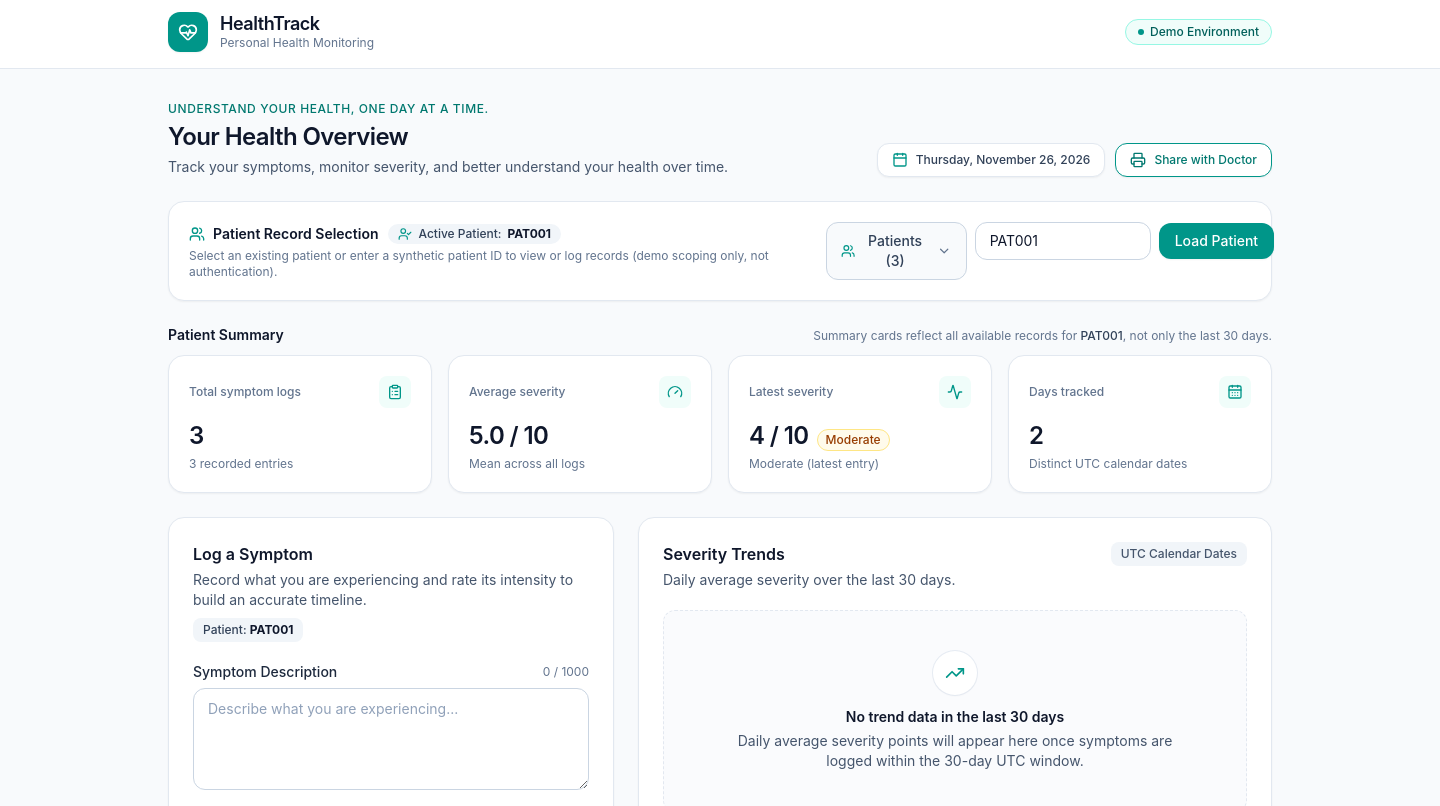
HealthTrack Dashboard › loads dynamic patient list, filters case-insensitively, and selects a patient with one click
The width and height of the screenshot is (1440, 806).
Click the button with aria-label "Browse existing patients": click(896, 251) [826,222,967,280]
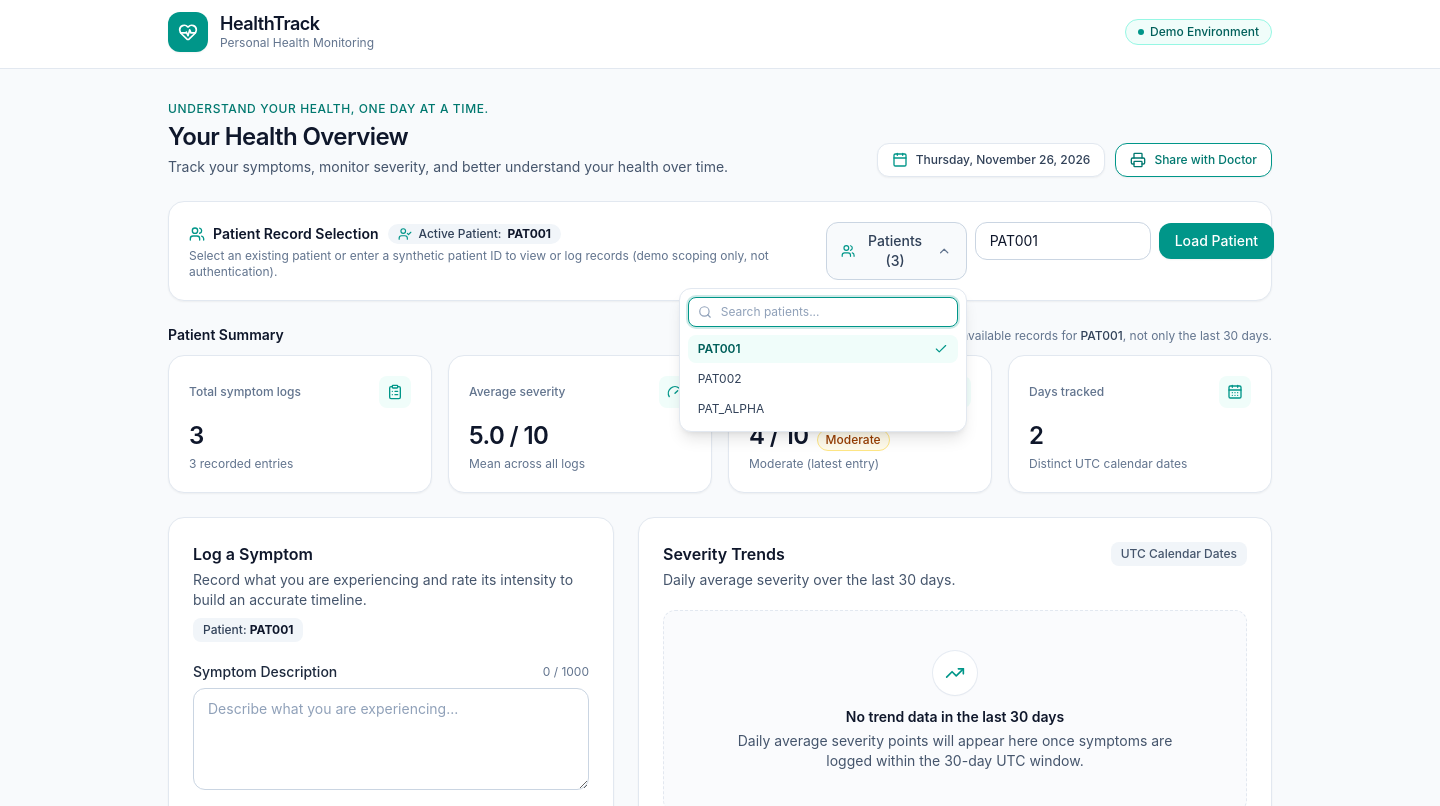
In the field labelled "Search patients": (823, 312) [688,297,958,327], type "pat002"
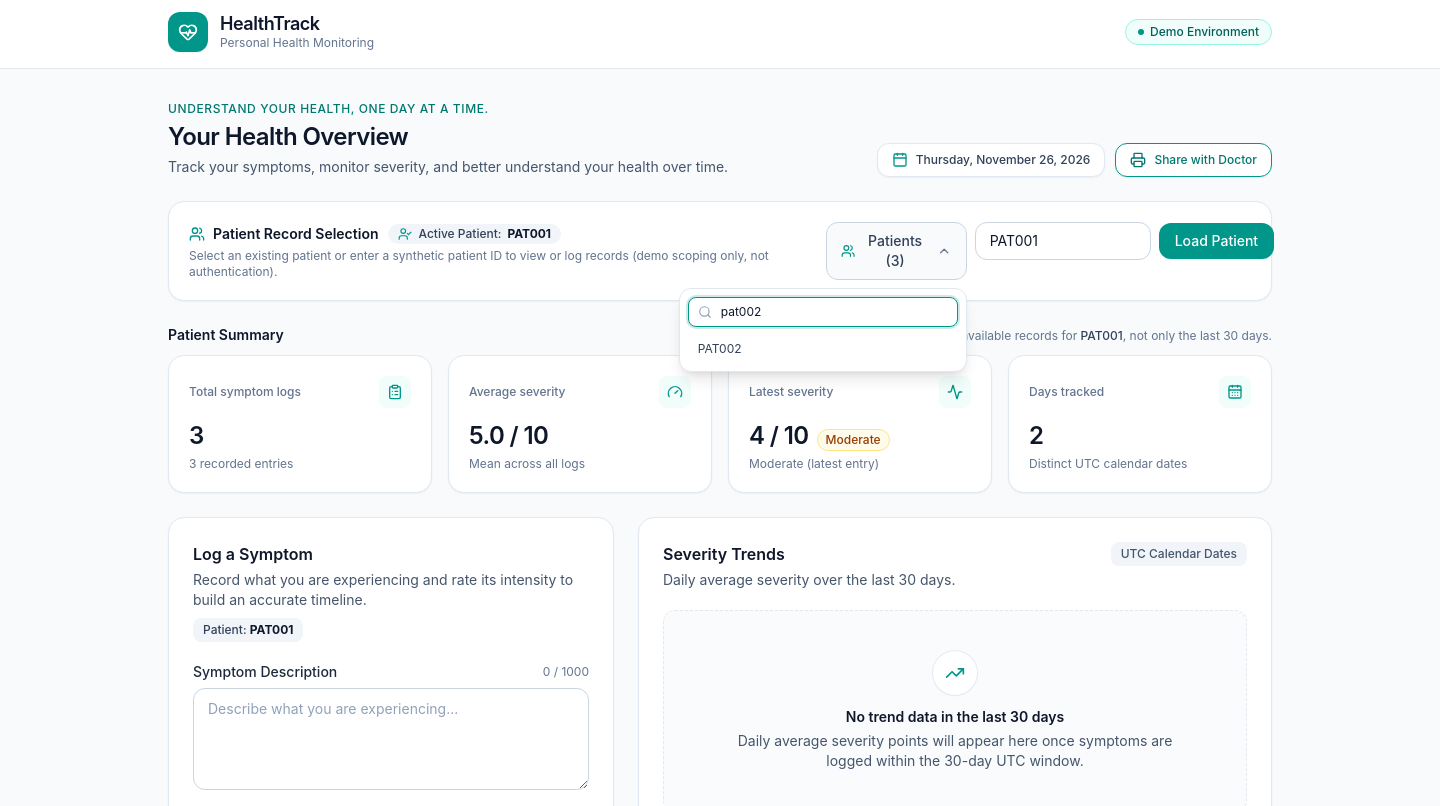
expect the option "PAT002" is shown: met, box [688,335,958,363]
expect the button "PAT_ALPHA" is gone: met
// Non-matching search shows empty search message
Replace the text in the field named "Search patients" with "zzz": (823, 312) [688,297,958,327]
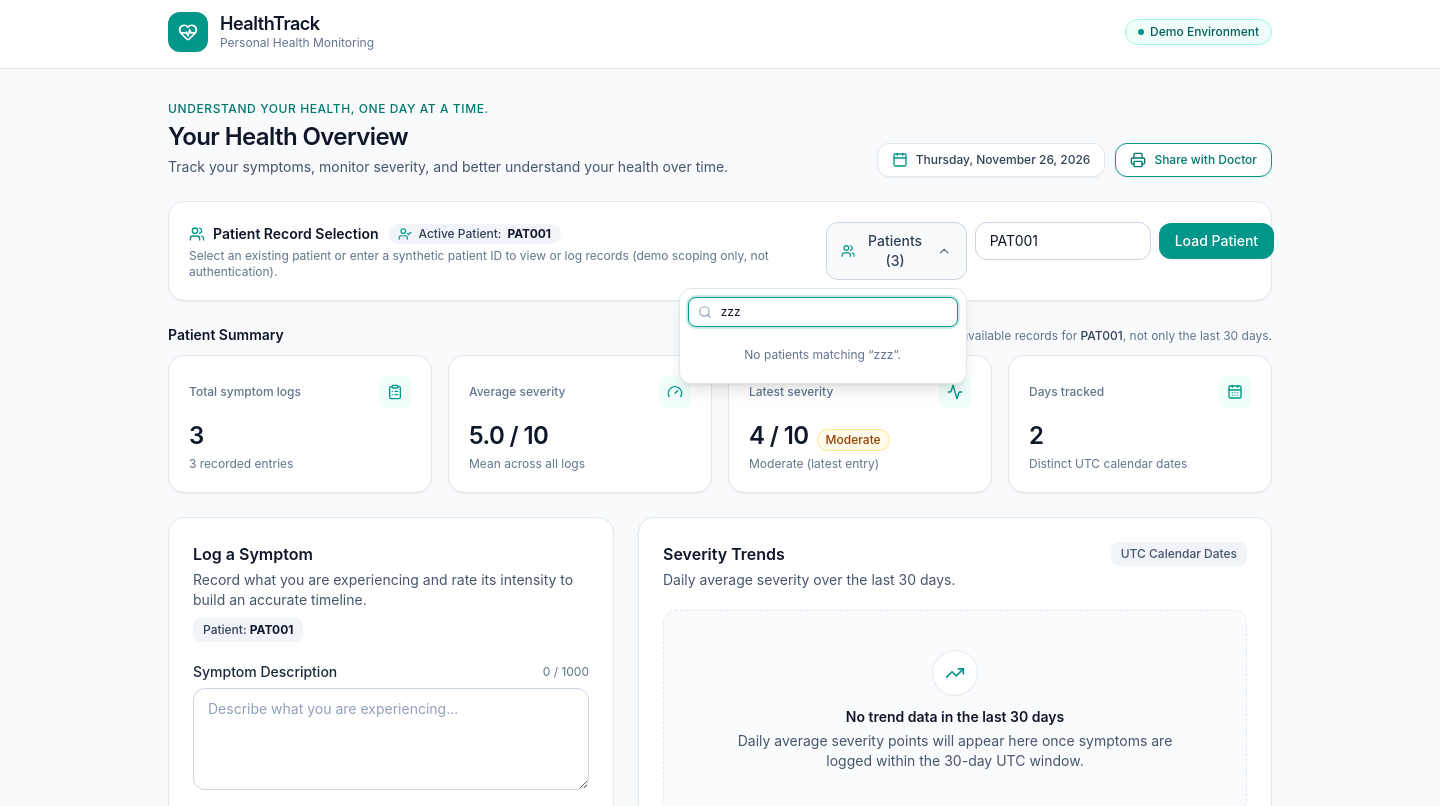
expect the text "No patients matching “zzz”." is shown: met, box [744,347,901,362]
// Clear search and select PAT002 with one click (no Load Patient click needed)
Clear the field named "Search patients": (823, 312) [688,297,958,327]
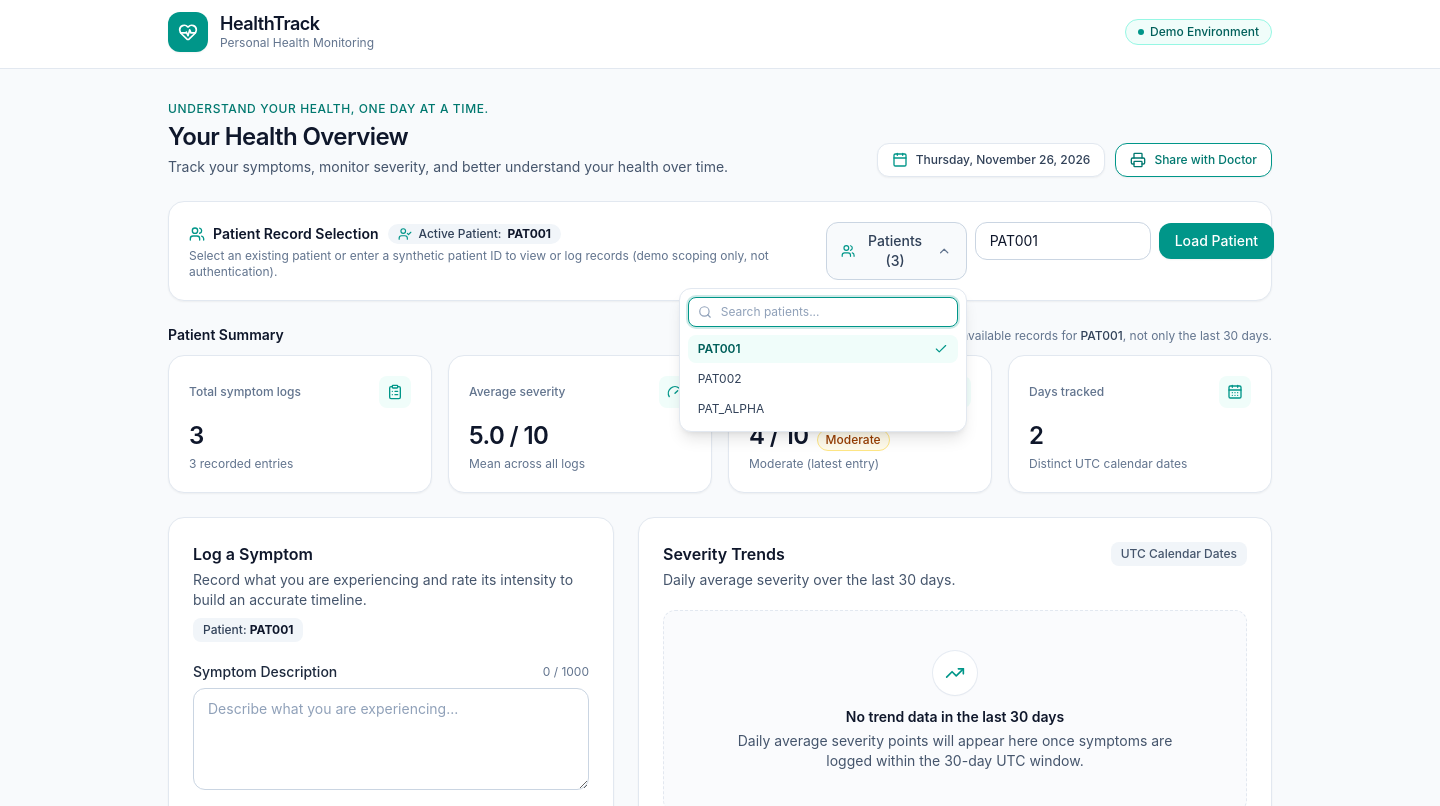
Click the button "PAT002": click(720, 378) [688,365,958,393]
(page scrolled)
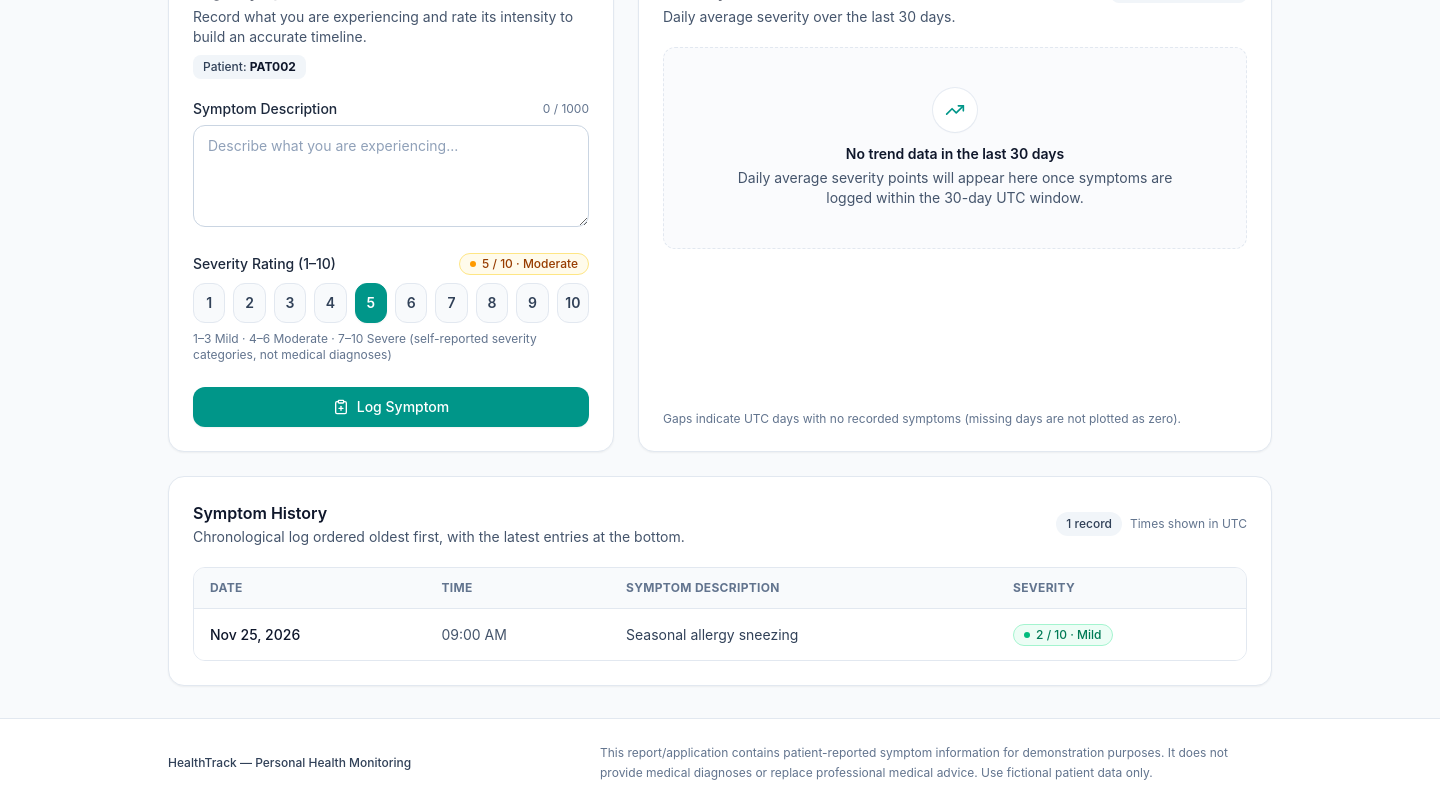
expect the text "Seasonal allergy sneezing" is shown: met, box [610,608,997,660]
